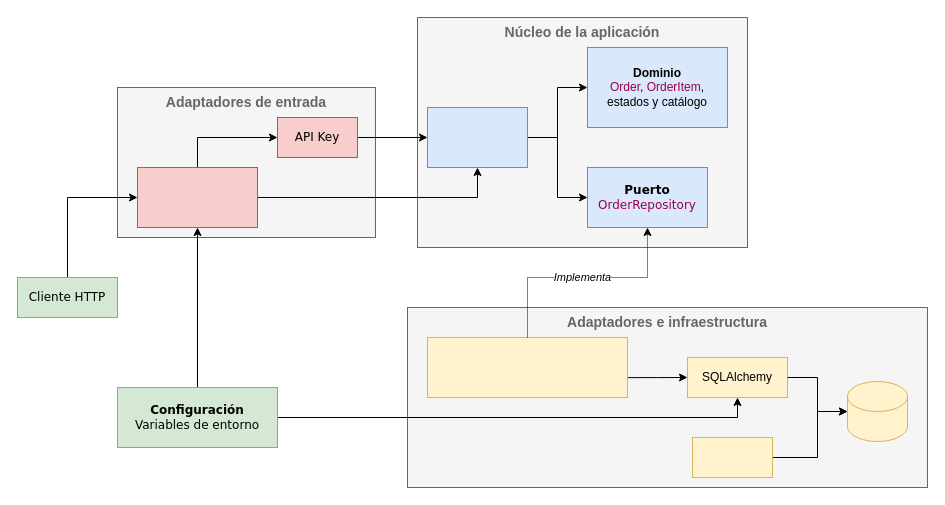
Some shapes in this 945 by 505 pixel diagram are drawn without their labels. Here are the shapes that lost their labels. From the top down, the centre of each, then its label:
At point (477, 137): "Aplicación OrderService".
At point (197, 197): "FastAPI Rutas y esquemas".
At point (527, 367): "Adaptador SqlAlchemyOrderRepository".
At point (877, 411): "SQLite".
At point (732, 457): "Alembic".
